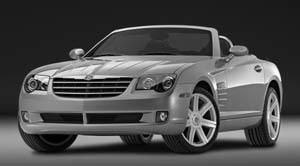car: (17, 25, 282, 153)
